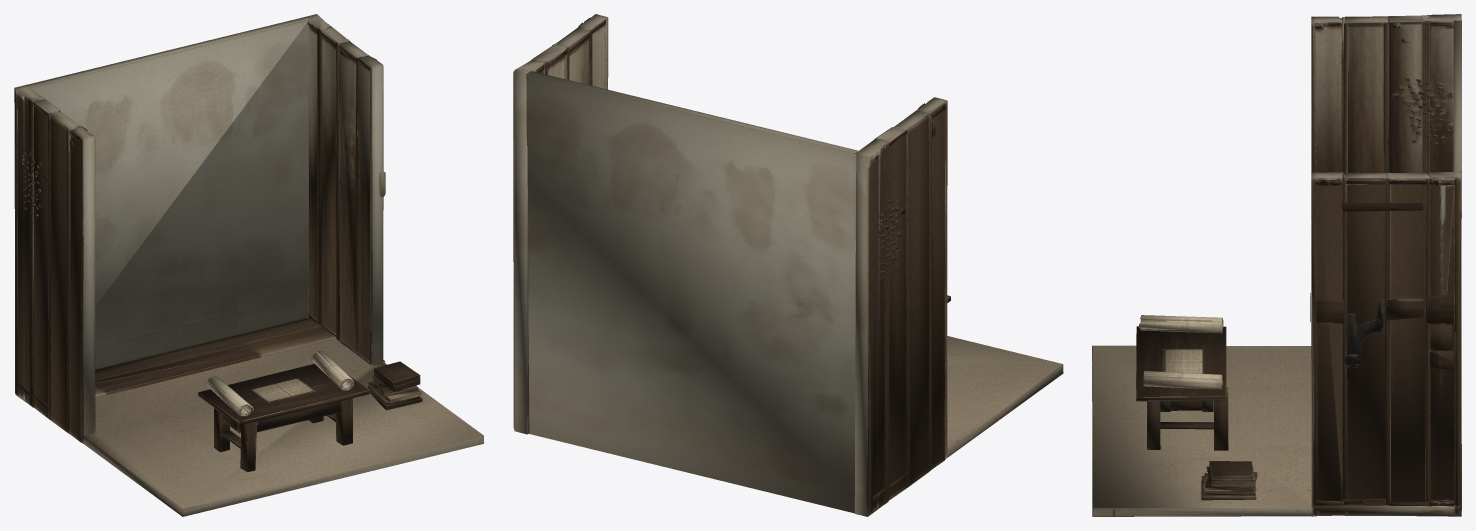
Rendered from cozumleme_odasi.glb.
3 renders of one model, left to right at view 1: azimuth 30°, elevation 25°; view 2: azimuth 150°, elevation 25°; view 3: azimuth 270°, elevation 25°, orthographic. The views are drawn at different scales.
Bounding box in the file's own units: 0.9341 × 0.8989 × 0.8853.
Materials: 1 (1 with a texture image).
